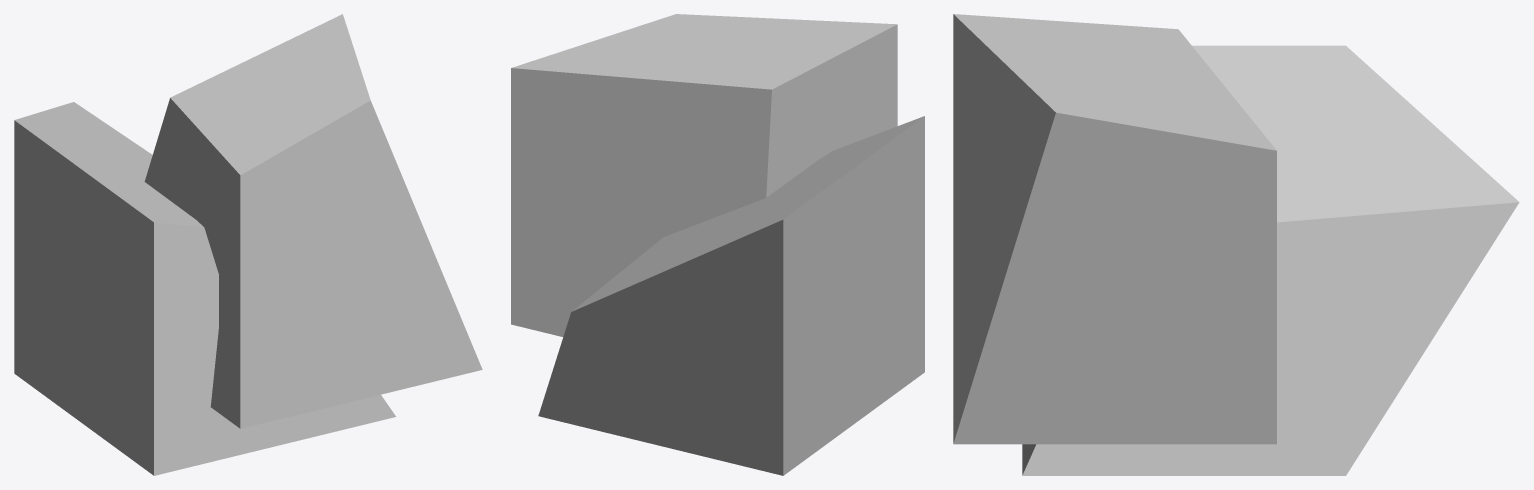
File: twovolumes.gltf
3 renders of one model, left to right at view 1: azimuth 30°, elevation 25°; view 2: azimuth 150°, elevation 25°; view 3: azimuth 270°, elevation 25°, orthographic. The views are drawn at different scales.
Parts seen in each view (by area): view 1: Cube; view 2: Cube; view 3: Cube.
Boxes of the visible parts, x1=… form: Cube: x1=14, y1=14, x2=482, y2=475; Cube: x1=511, y1=14, x2=924, y2=475; Cube: x1=953, y1=14, x2=1519, y2=475.
Size of the model in its own units: 1.5 by 1.48 by 2.12.
Materials: 1 (1 with a texture image).
